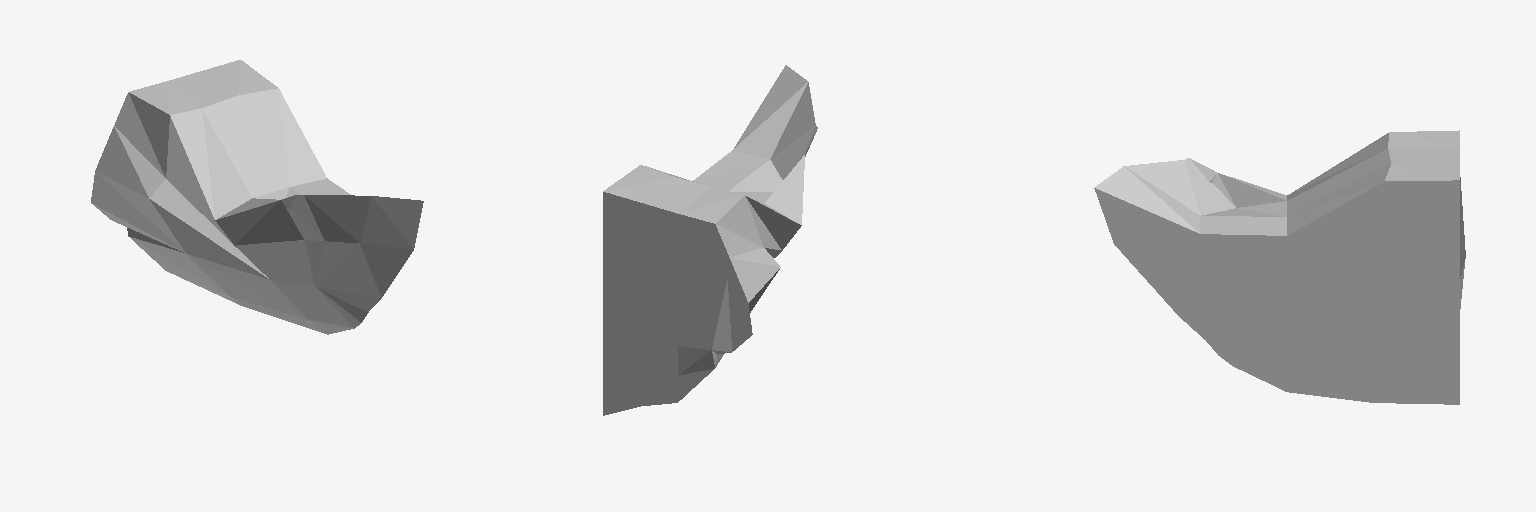
The model's file is frontRight.obj.
3 renders of one model, left to right at view 1: azimuth 30°, elevation 25°; view 2: azimuth 150°, elevation 25°; view 3: azimuth 270°, elevation 25°, orthographic.
Parts seen in each view (by area): view 1: Cube_Front_R_Cube.006; view 2: Cube_Front_R_Cube.006; view 3: Cube_Front_R_Cube.006.
Part boxes in pixels (x1,y1,x2,y2): Cube_Front_R_Cube.006: (91, 60, 423, 334); Cube_Front_R_Cube.006: (603, 65, 817, 415); Cube_Front_R_Cube.006: (1094, 130, 1465, 404).
Bounding box in the file's own units: 1 × 1.43 × 2.15.